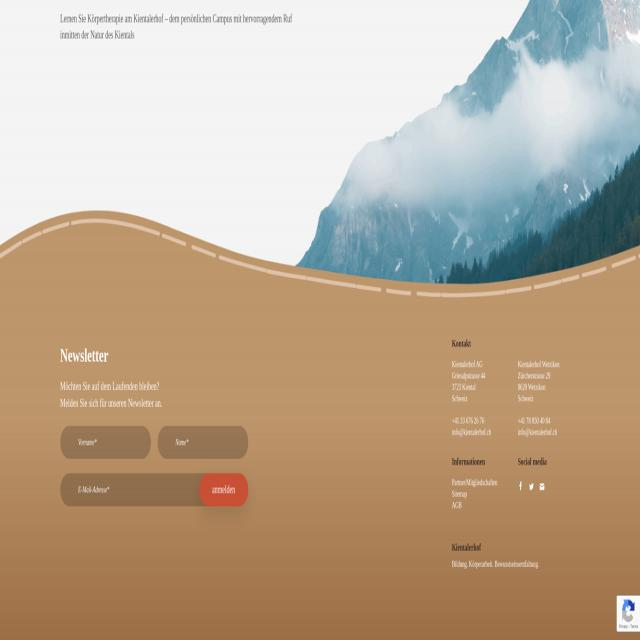button: (199, 473, 248, 507), (616, 596, 640, 633), (518, 480, 523, 491), (529, 484, 533, 490), (540, 484, 544, 490)
field: (60, 474, 199, 506), (60, 426, 151, 459), (158, 426, 248, 459)
